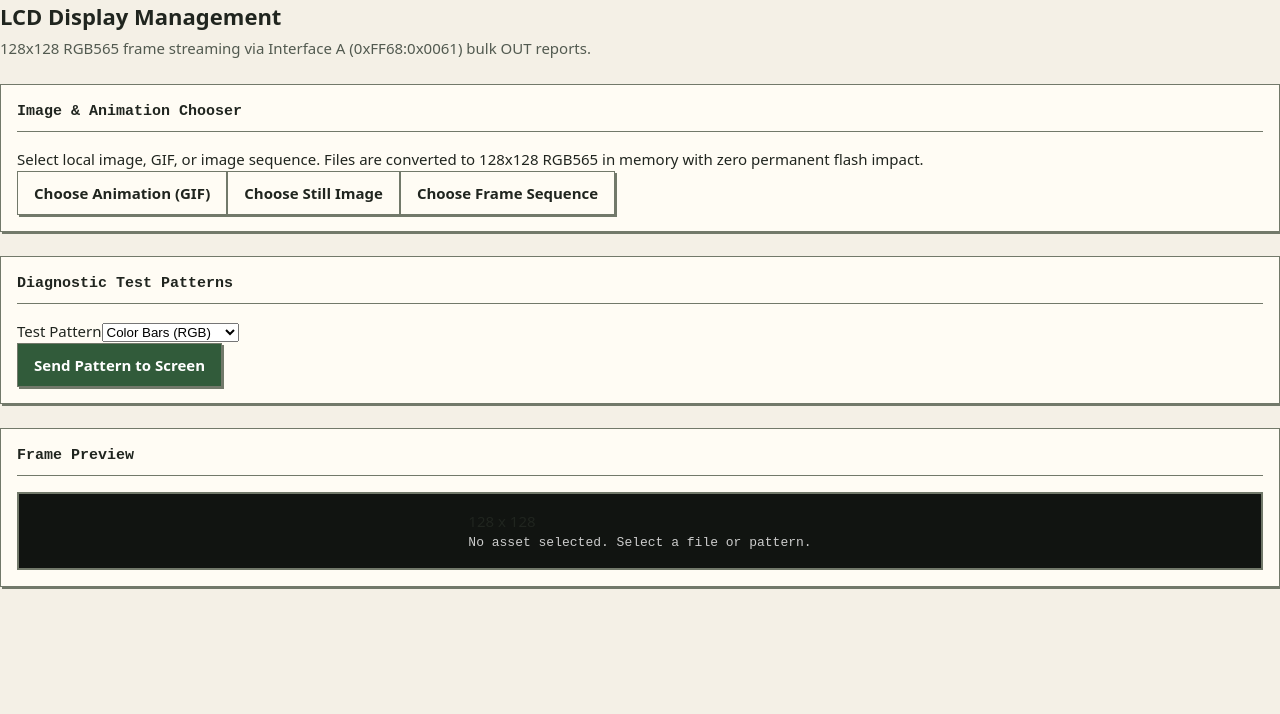
LcdPage Workflow and Safety Rails › surfaces LCD error when start_lcd fails with busy or io_error
Expected: the heading "LCD Display Management" is shown, [0,1,281,31]
Click the button "Send Pattern to Screen" at (120, 364), box [17,342,222,386]
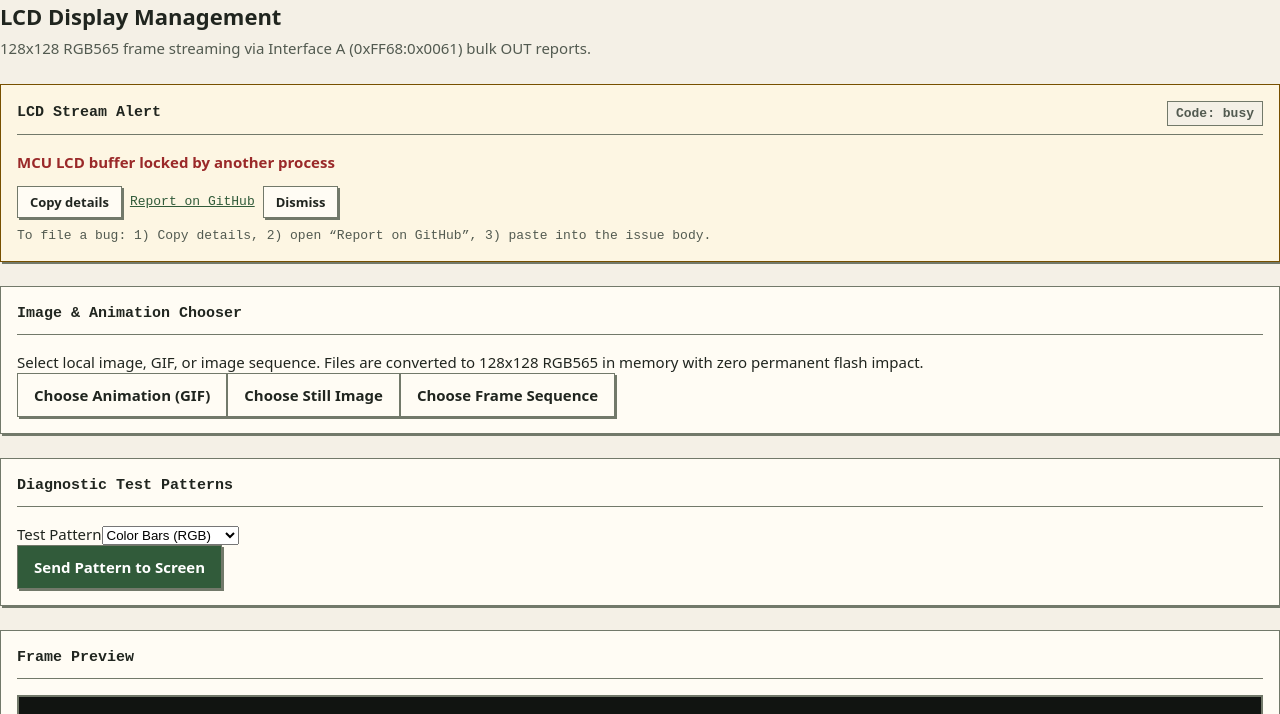
Expected: the text "MCU LCD buffer locked by another process" is shown, [17,152,335,172]
